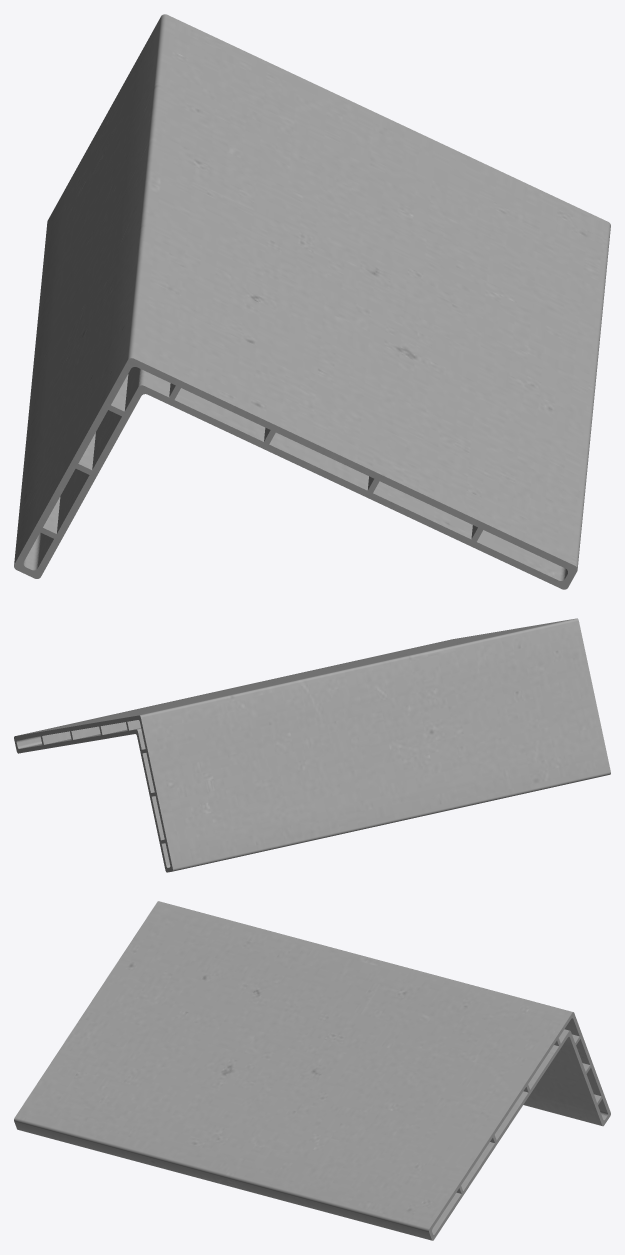
The model's file is Lkosesade.glb.
The picture shows the model from 3 angles, top to bottom: view 1: azimuth 30°, elevation 25°; view 2: azimuth 150°, elevation 25°; view 3: azimuth 270°, elevation 25°; orthographic projection. The views are drawn at different scales.
Parts seen in each view (by area): view 1: Plane; view 2: Plane; view 3: Plane.
Part boxes in pixels (x1,y1,x2,y2): Plane: [14, 14, 610, 589]; Plane: [14, 618, 610, 872]; Plane: [14, 901, 610, 1240].
Size of the model in its own units: 10.61 by 2.88 by 11.51.
Materials: 1 (1 with a texture image).
